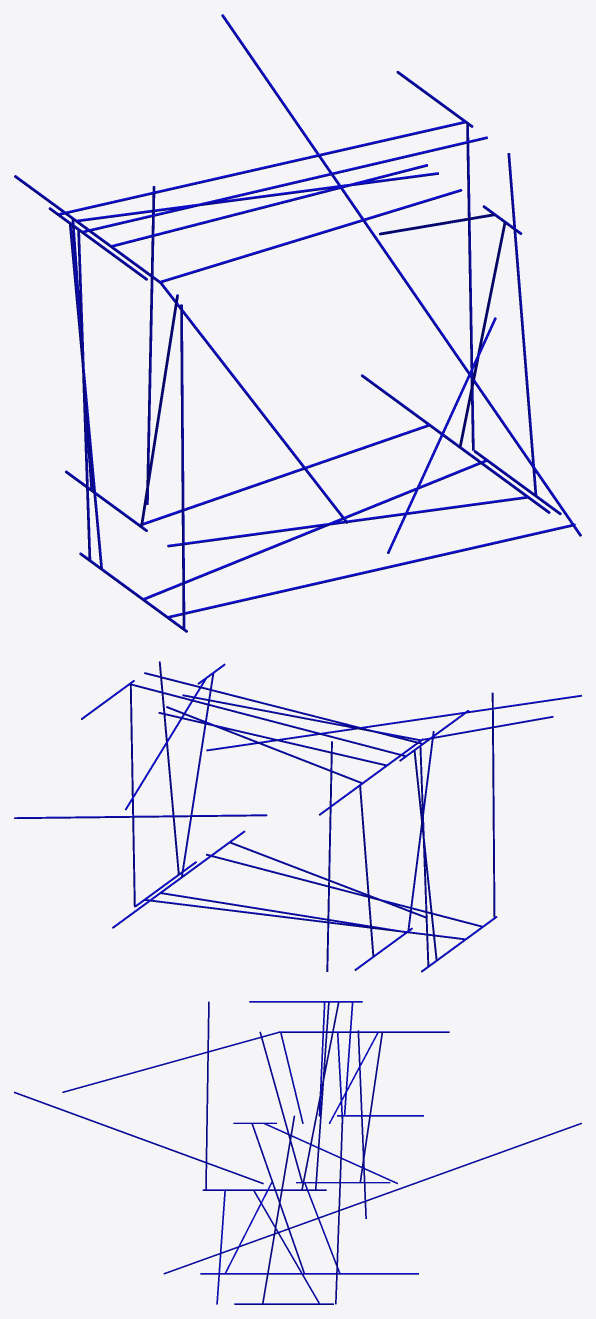
File: corrected_3d_strokes.glb
The picture shows the model from 3 angles, top to bottom: view 1: azimuth 30°, elevation 25°; view 2: azimuth 150°, elevation 25°; view 3: azimuth 270°, elevation 25°; orthographic projection. The views are drawn at different scales.
Parts seen in each view (by area): view 1: world; view 2: world; view 3: world.
Boxes of the visible parts, x1,y1,x2,y2 form: world: (14,14,581,632); world: (14,661,581,972); world: (14,1001,581,1304).
Size of the model in its own units: 6.54 by 5.04 by 13.68.
